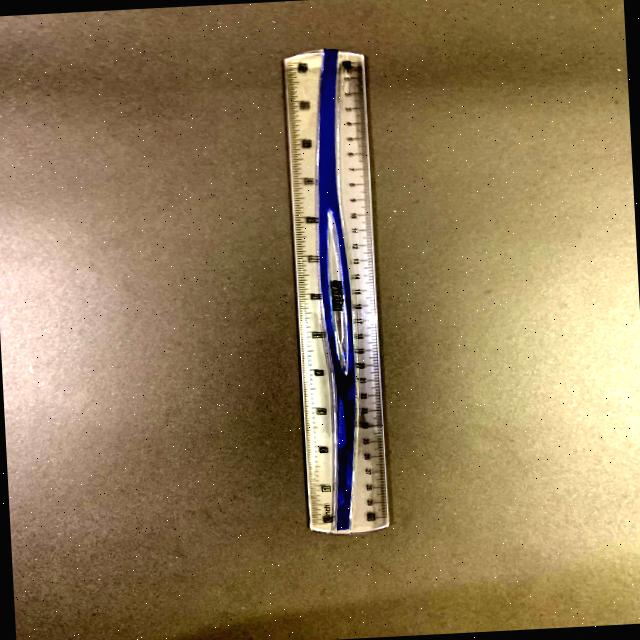Scale: (203, 20, 451, 560)
